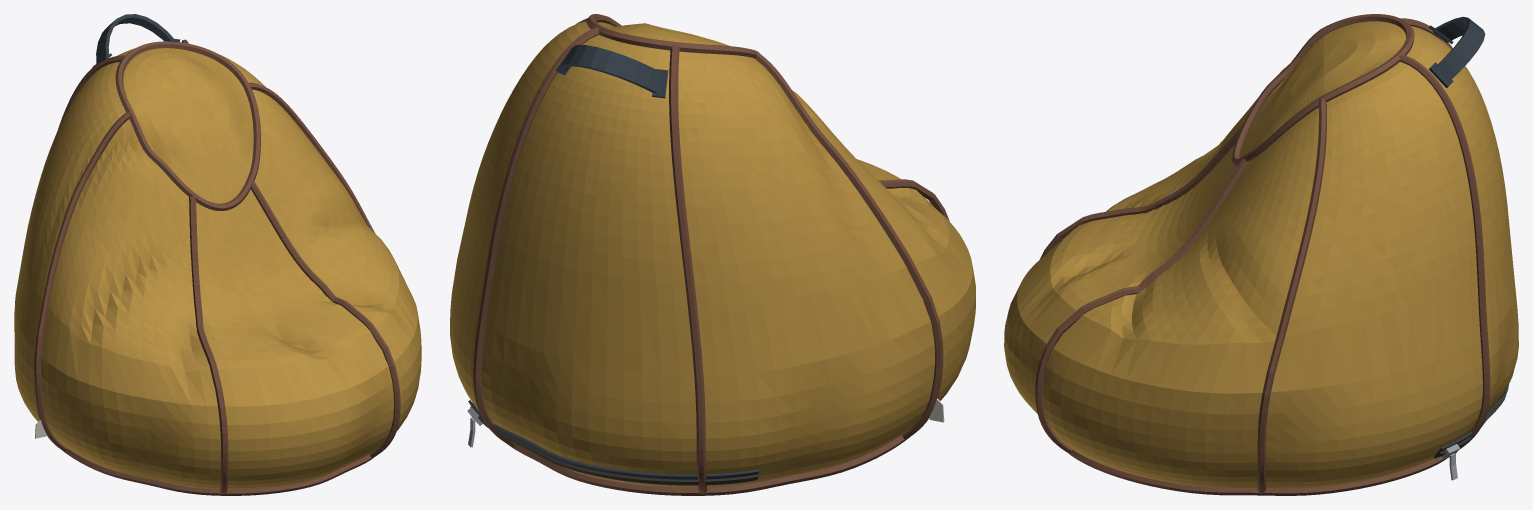
Rendered from bean-bag.glb.
3 renders of one model, left to right at view 1: azimuth 30°, elevation 25°; view 2: azimuth 150°, elevation 25°; view 3: azimuth 270°, elevation 25°, orthographic. The views are drawn at different scales.
Visible parts, largest first — view 1: bean_bag; view 2: bean_bag; view 3: bean_bag.
Boxes of the visible parts, left/top/right/bottom form: bean_bag: left=14, top=14, right=421, bottom=495; bean_bag: left=450, top=14, right=975, bottom=495; bean_bag: left=1004, top=14, right=1518, bottom=495.
Bounding box in the file's own units: 0.6552 × 0.6312 × 0.7046.
